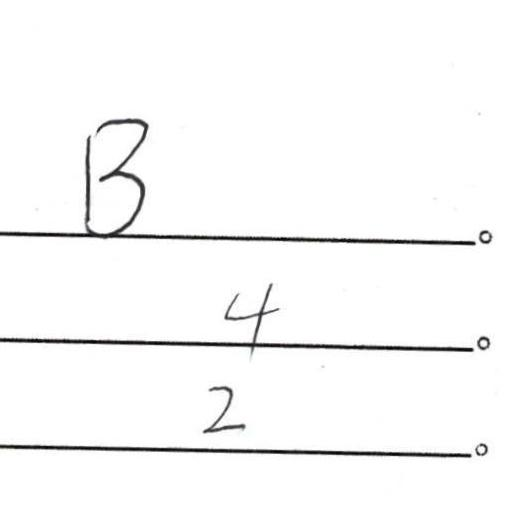ans: (73, 110, 151, 239), (216, 277, 280, 355), (195, 377, 245, 434)
